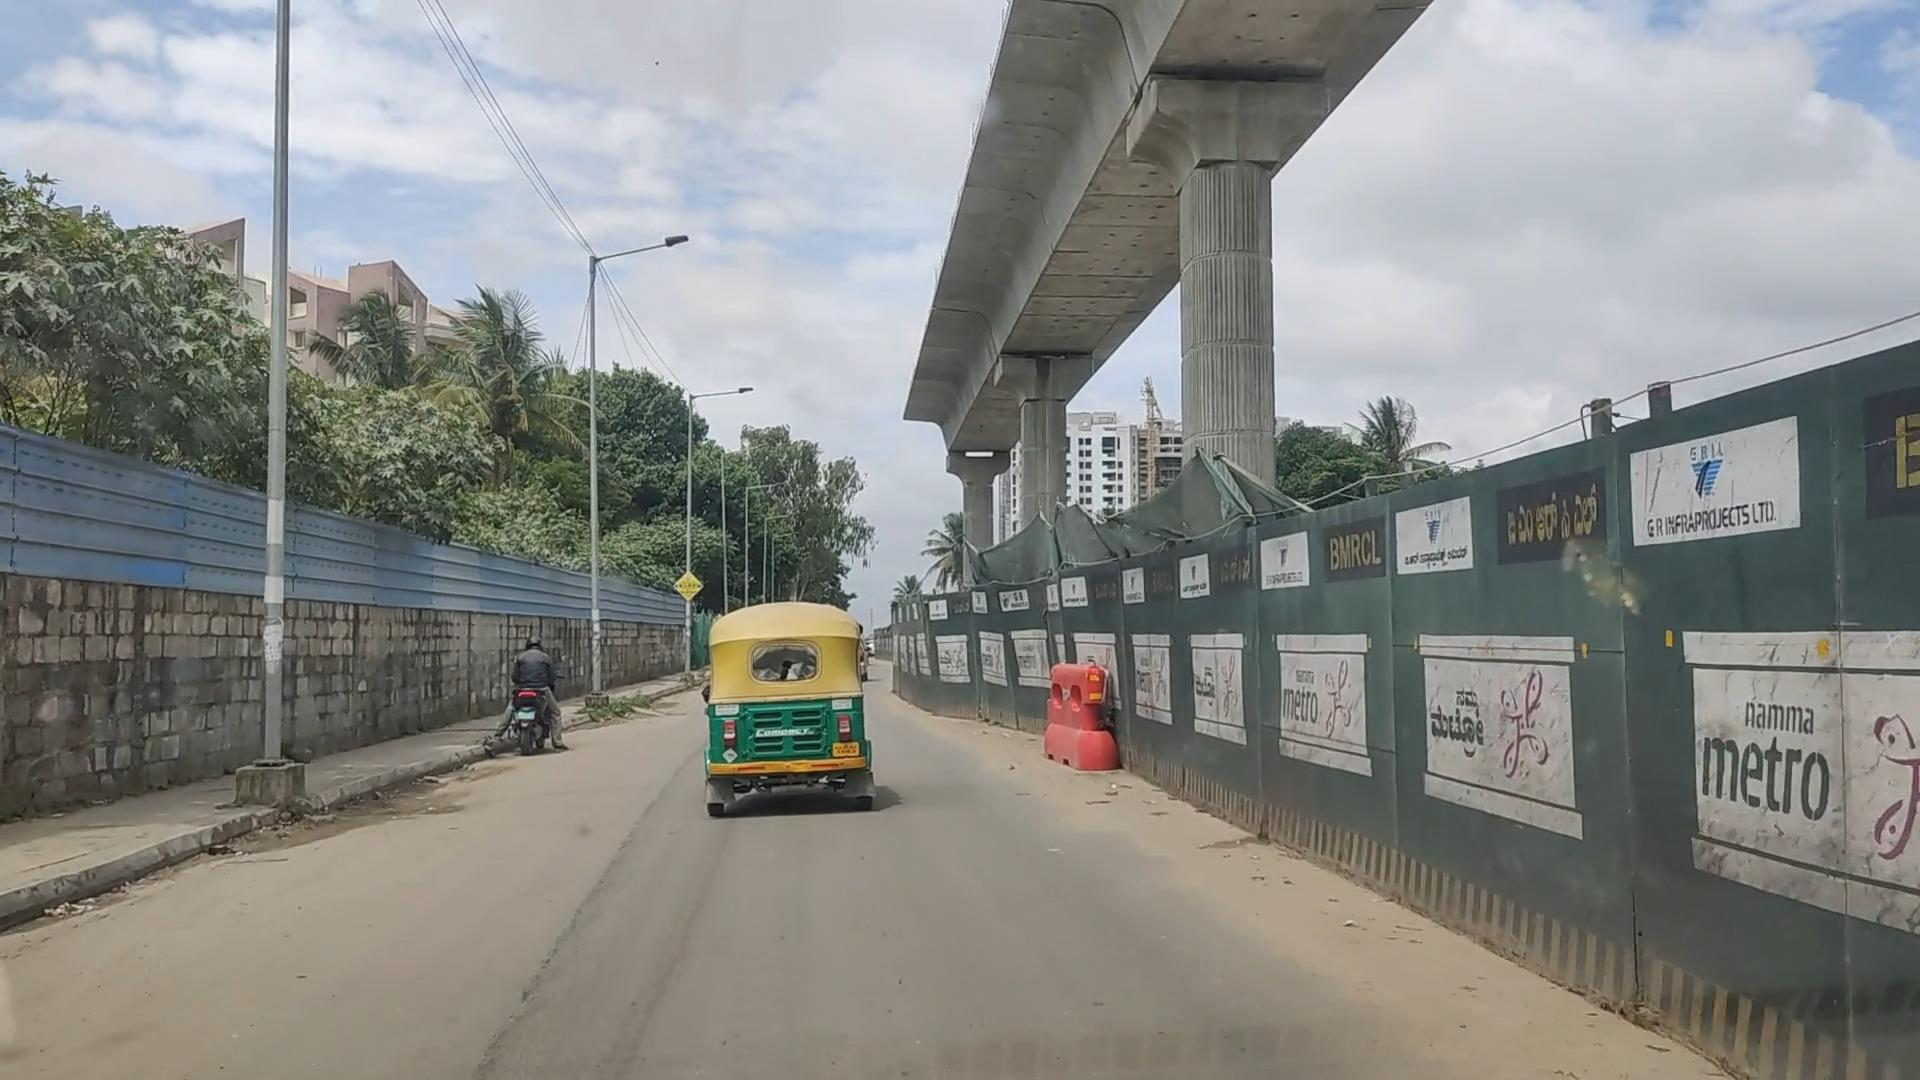LMV: (682, 591, 885, 837), (488, 626, 567, 760)
